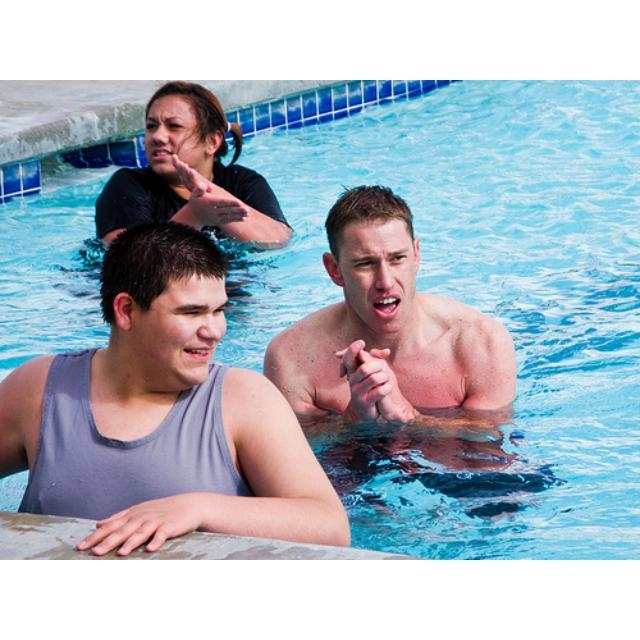human: (1, 218, 355, 548), (265, 181, 529, 426), (95, 84, 294, 252)
